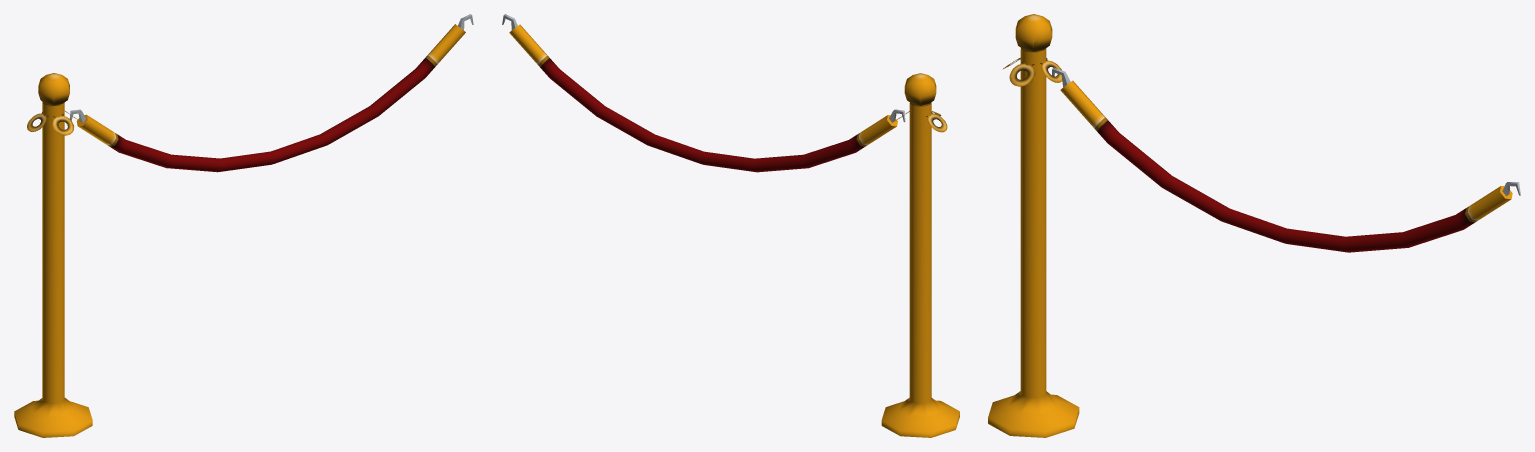
File: museum_pole_small.fbx
3 renders of one model, left to right at view 1: azimuth 30°, elevation 25°; view 2: azimuth 150°, elevation 25°; view 3: azimuth 330°, elevation 25°, orthographic. The views are drawn at different scales.
Parts seen in each view (by area): view 1: pCylinder13; view 2: pCylinder13; view 3: pCylinder13.
Part boxes in pixels (<box>): pCylinder13: <box>14,14,473,437</box>; pCylinder13: <box>502,14,959,437</box>; pCylinder13: <box>988,14,1520,437</box>.
Size of the model in its own units: 8.49 by 6.18 by 1.31.
Materials: 1 (1 with a texture image).
